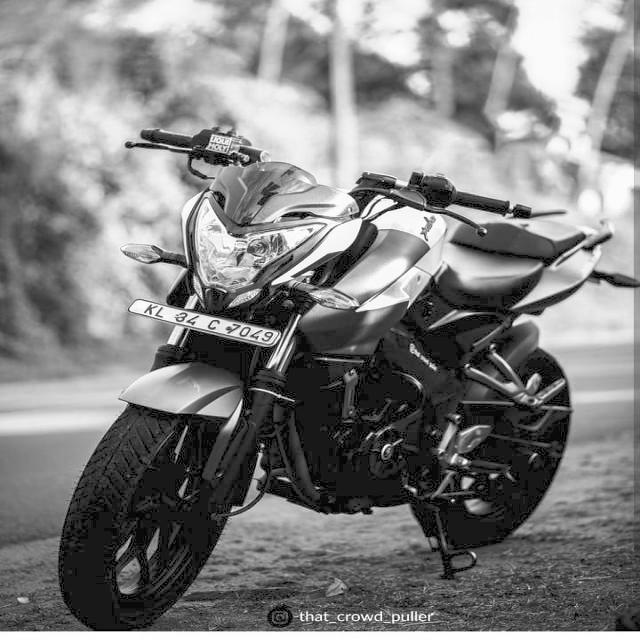Bike: (62, 124, 640, 640)
